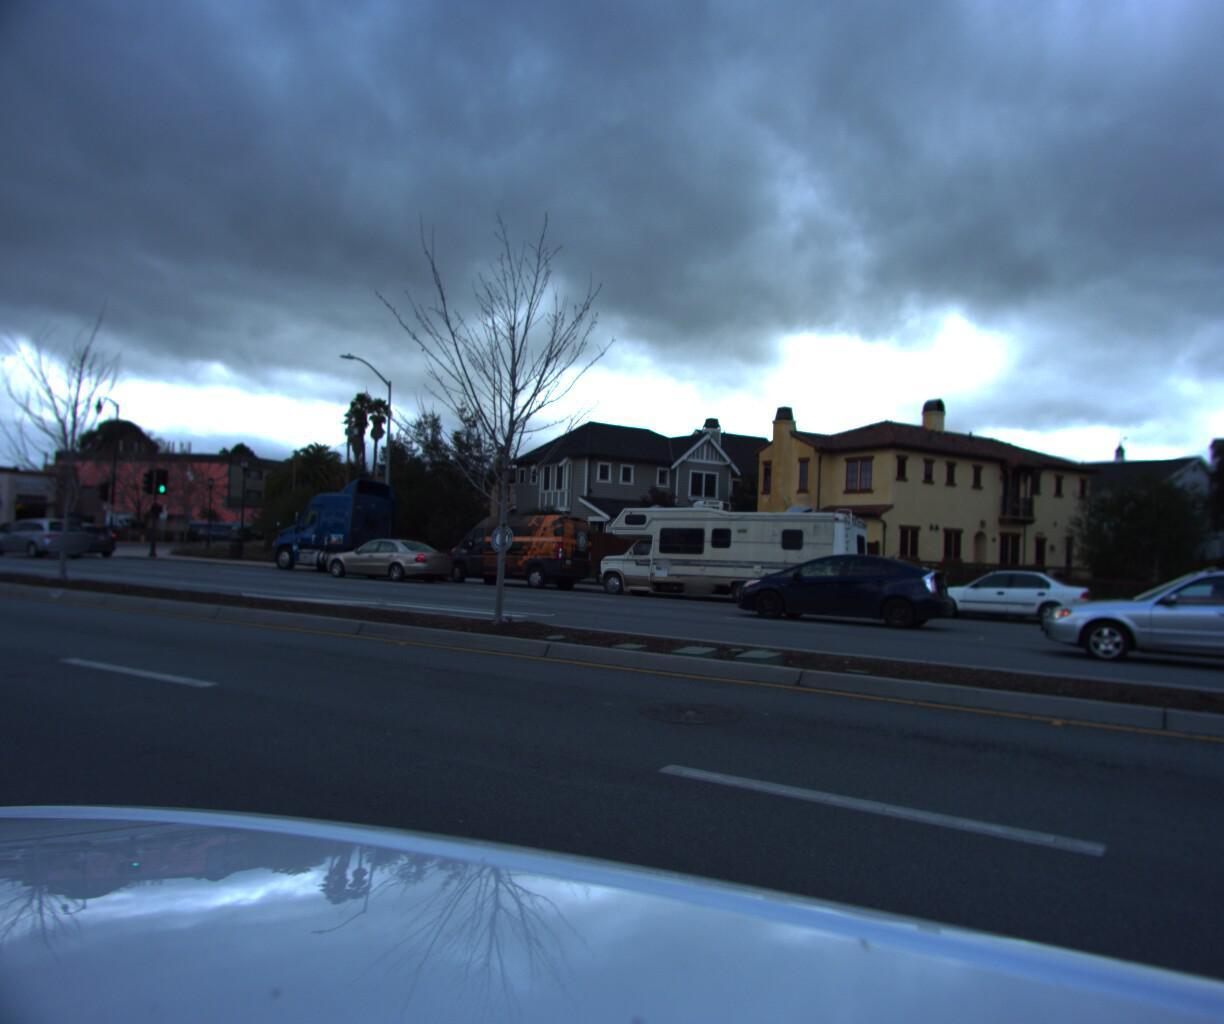car: (1049, 548, 1224, 692), (735, 545, 962, 631), (431, 510, 595, 593), (906, 561, 1095, 628), (1146, 541, 1224, 654), (318, 533, 458, 586), (0, 521, 100, 565), (30, 524, 123, 562), (0, 520, 11, 554)
other_vehicle: (587, 490, 878, 614)
truck: (259, 478, 466, 585)
